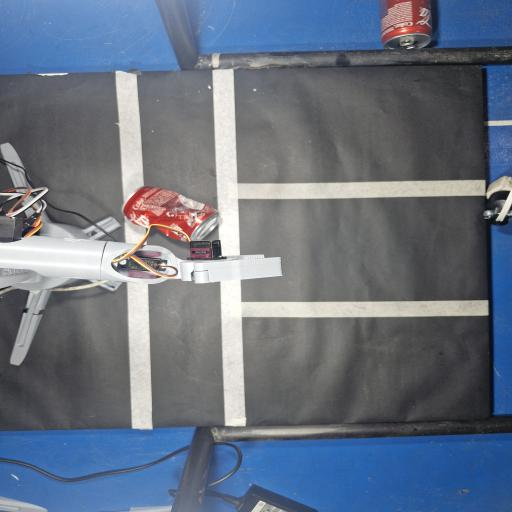lata_defectuoso: (123, 186, 219, 240), (152, 228, 187, 243)
